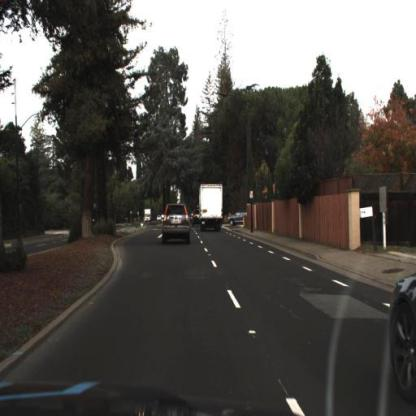car: (381, 247, 416, 409), (160, 196, 196, 253), (195, 180, 229, 234), (227, 207, 250, 231), (141, 204, 155, 229), (229, 209, 247, 225), (157, 215, 161, 222)
truck: (199, 182, 225, 231), (145, 209, 151, 225)
